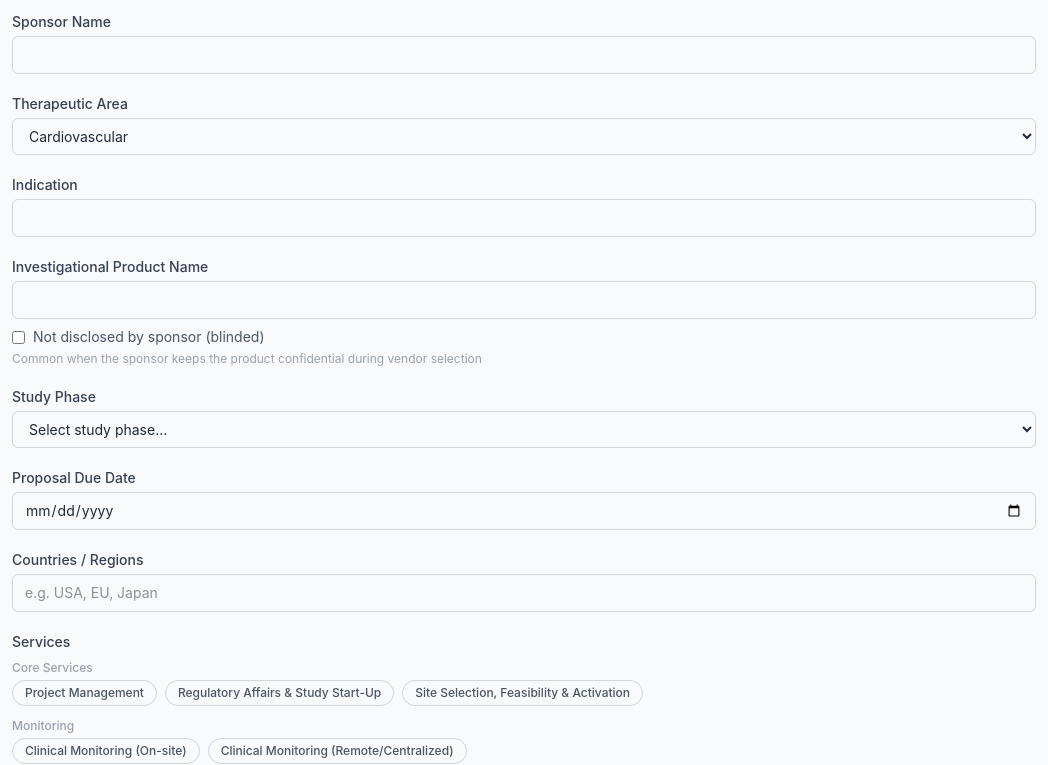
Test: Step1StudyInfo — Therapeutic Area Other › reveals a freetext input and clears the value when Other is selected
Select "Other" in the dropdown labelled "Therapeutic Area". click: (524, 136)
box: [12,118,1036,155]
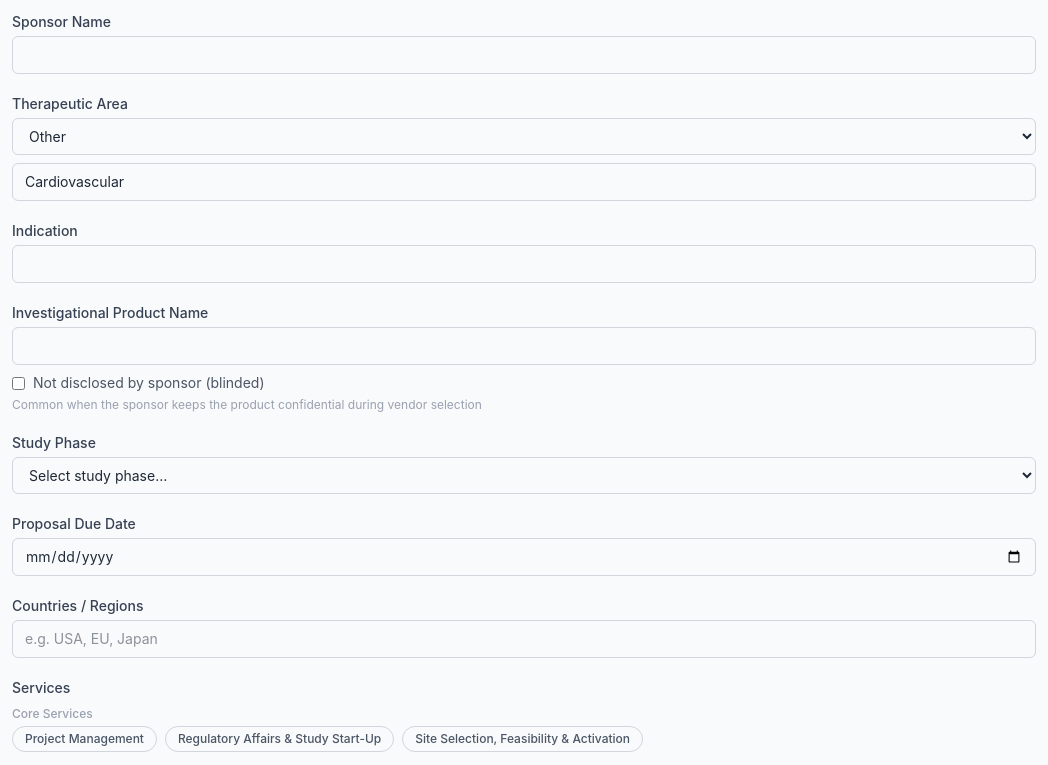
Expected: the field named "Custom Therapeutic Area" is shown, [12,163,1036,201]
